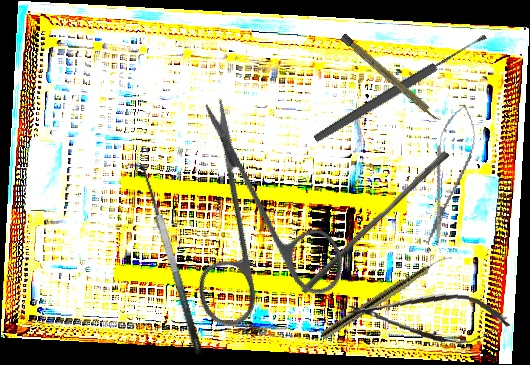Handpiece: (320, 249, 453, 342)
Iris Scissors: (119, 93, 389, 364)
Micro Scissor: (344, 284, 512, 350), (415, 100, 483, 250)
Pusher: (300, 145, 450, 300)
Scalpel Handle: (339, 33, 442, 123)
Spatula Surgical: (126, 156, 205, 361)
Surgical Spoon: (312, 31, 489, 145)
